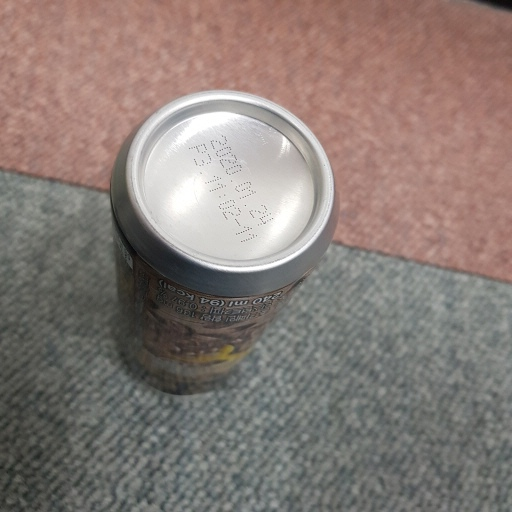Metal_0: (101, 90, 338, 397)
